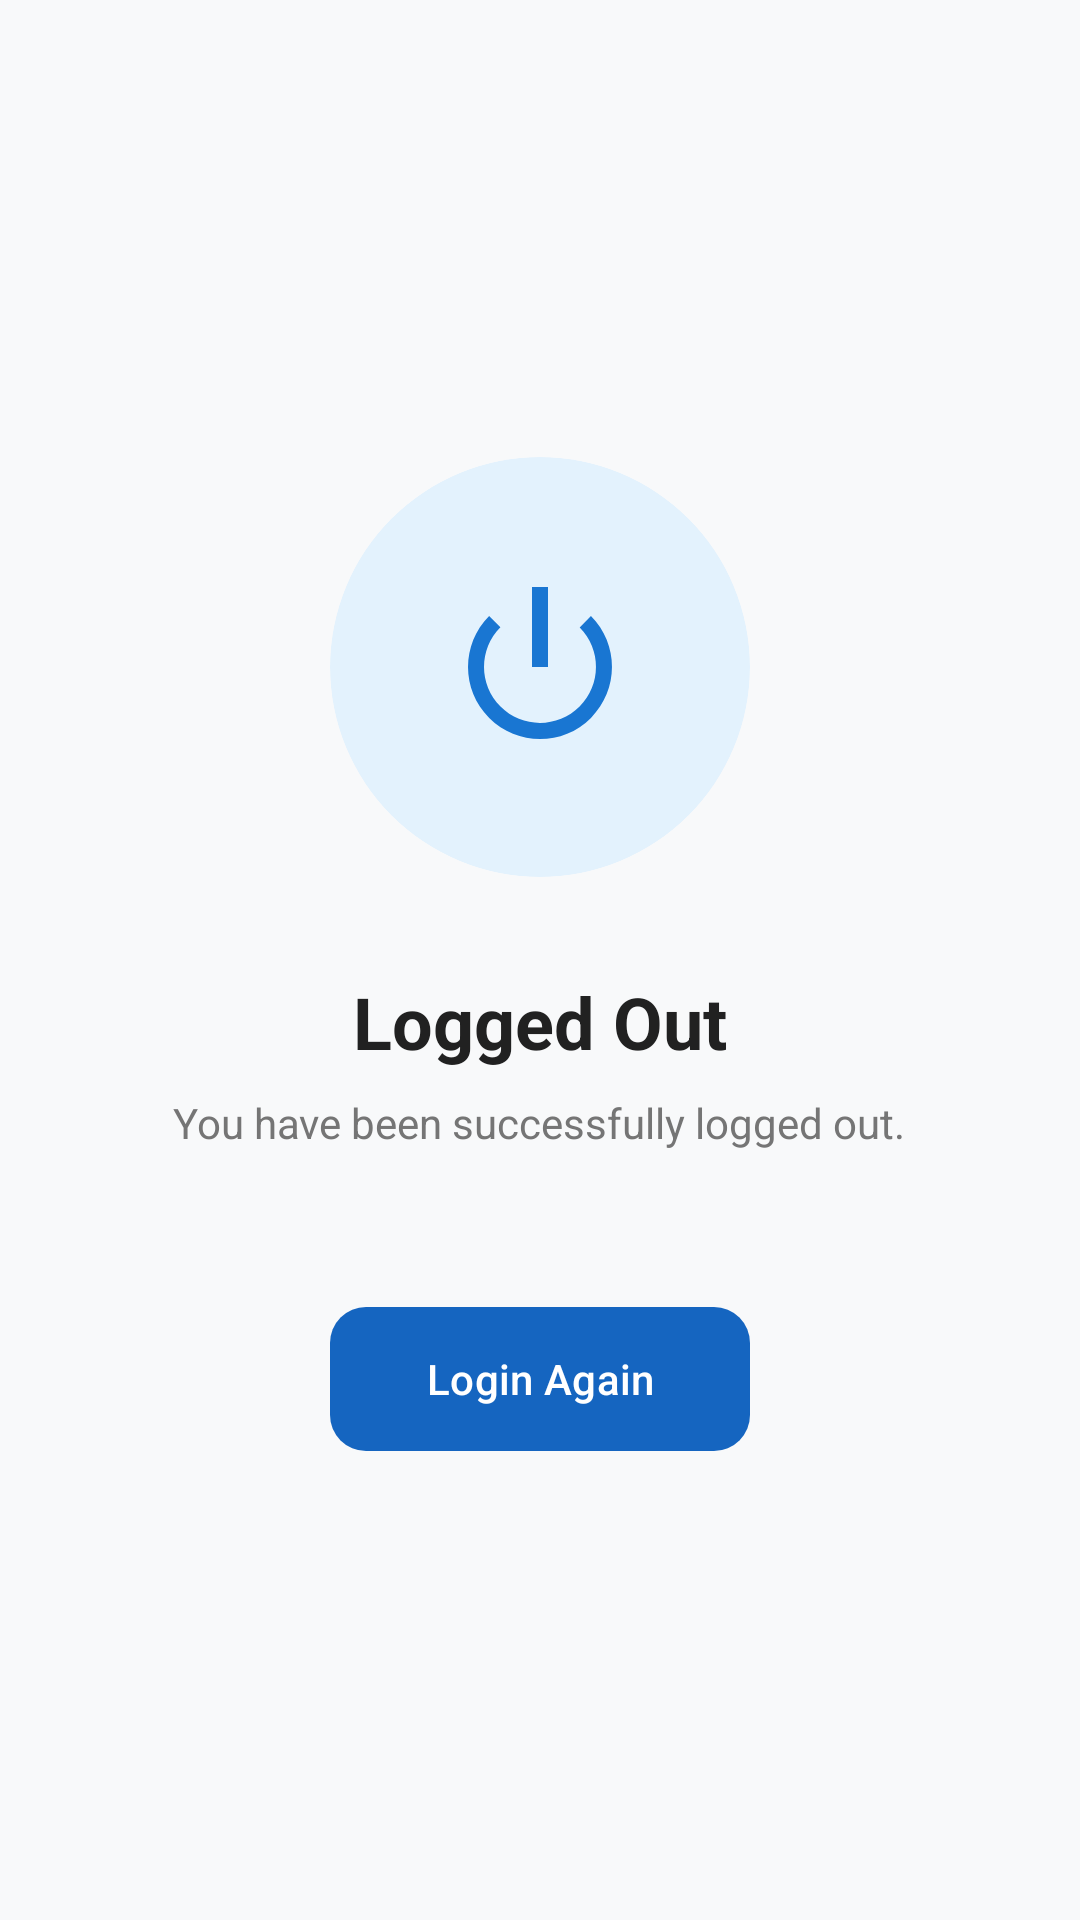

Named icons in this screenshot (1080px×1920px) and their bounding boxes, bbox(x1, y1, x2, y2):
lock power off: bbox(468, 587, 612, 739)
